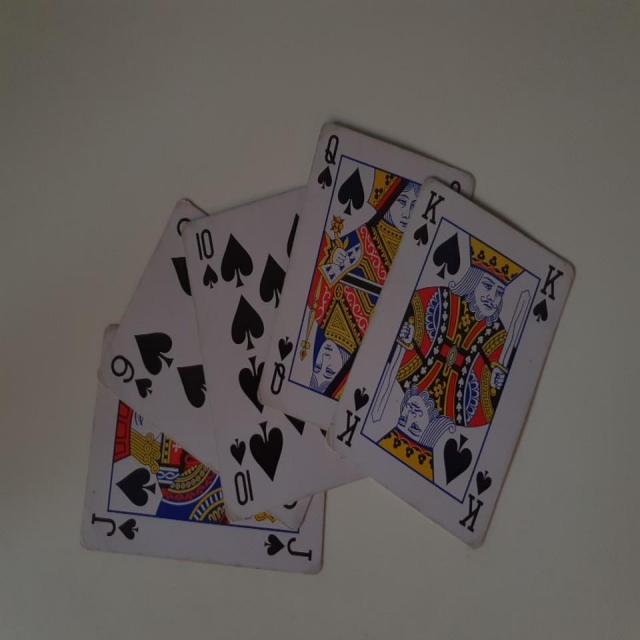10 Spades: (182, 190, 367, 513)
9 Spades: (92, 188, 301, 514)
J Spades: (76, 325, 327, 583)
K Spades: (327, 178, 577, 562)
Q Spades: (267, 114, 470, 450)
